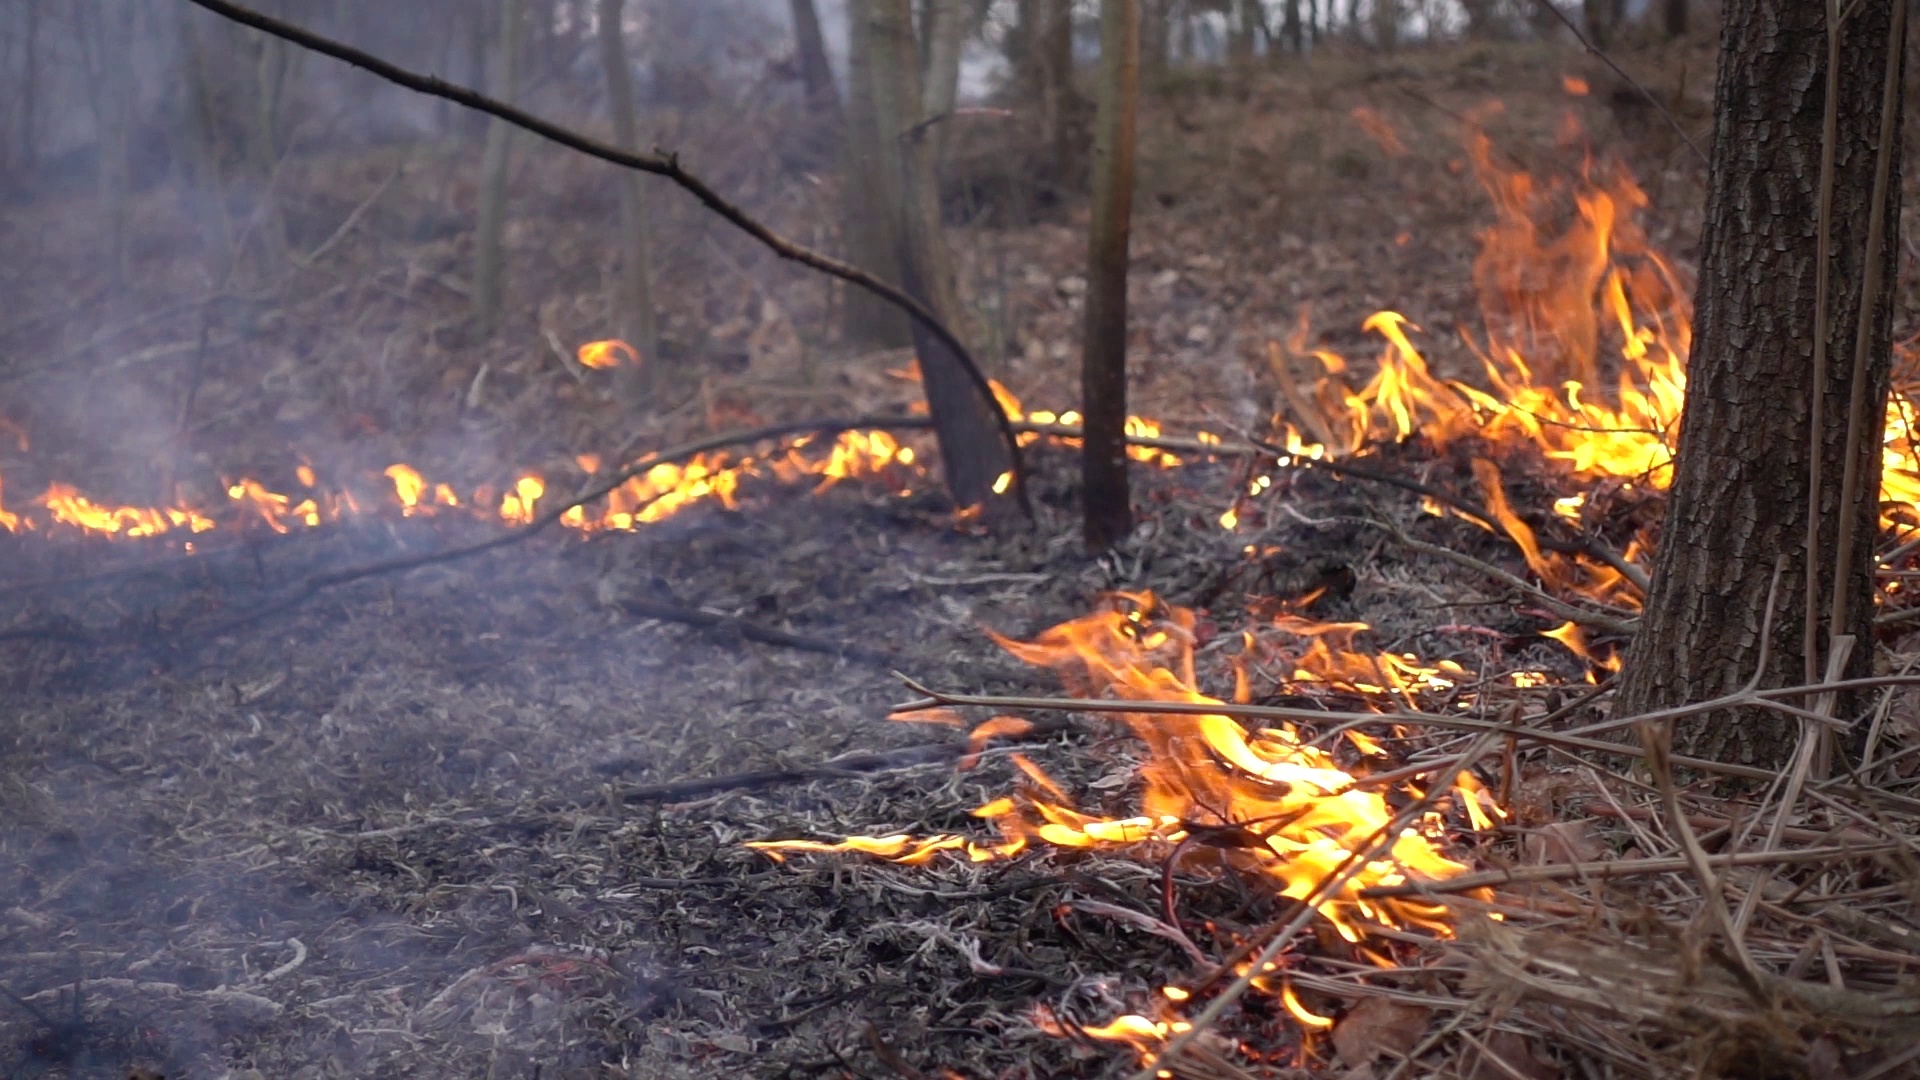fire: (975, 599, 1456, 945), (1288, 138, 1687, 489), (567, 454, 736, 531), (26, 483, 200, 534), (227, 463, 324, 531), (1880, 398, 1920, 513), (380, 464, 448, 512), (833, 425, 891, 473), (502, 475, 545, 525)
